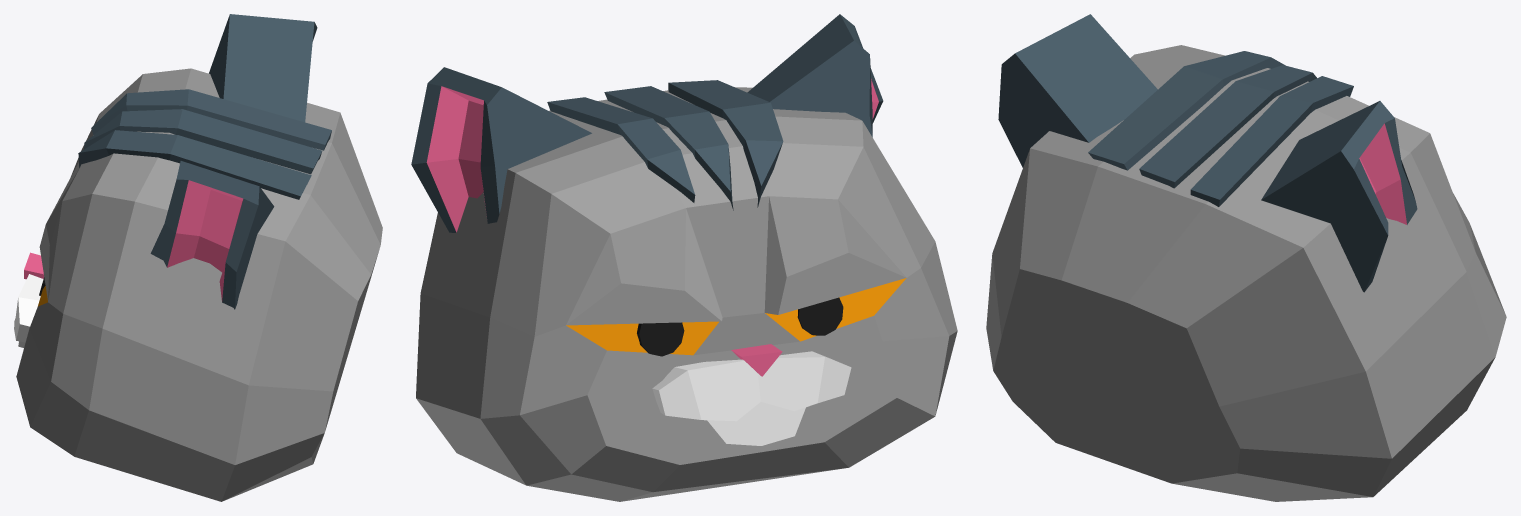
Rendered from cat.glb.
3 renders of one model, left to right at view 1: azimuth 30°, elevation 25°; view 2: azimuth 150°, elevation 25°; view 3: azimuth 270°, elevation 25°, orthographic. The views are drawn at different scales.
Parts seen in each view (by area): view 1: group1932486327, group598749005, group1717132288, group2142930274, group2073198580, group688622445, group1418028769; view 2: group1932486327, group1717132288, group1418028769, group598749005, group2142930274, group2073198580, group688622445, group445153108, group34835231, group1732848719, group1140040804; view 3: group1932486327, group1717132288, group598749005, group2142930274, group2073198580, group688622445.
Part boxes in pixels (box(x1,y1,x2,y2)): group1932486327: box(16, 68, 382, 501); group598749005: box(150, 161, 274, 309); group1717132288: box(209, 14, 317, 122); group2142930274: box(78, 130, 311, 199); group2073198580: box(84, 109, 322, 174); group688622445: box(91, 89, 331, 150); group1418028769: box(14, 249, 43, 342); group1932486327: box(416, 87, 957, 501); group1717132288: box(411, 67, 591, 232); group1418028769: box(652, 351, 851, 421); group598749005: box(747, 14, 883, 137); group2142930274: box(668, 80, 783, 207); group2073198580: box(604, 86, 733, 210); group688622445: box(547, 97, 695, 202); group445153108: box(707, 402, 805, 445); group34835231: box(637, 322, 684, 356); group1732848719: box(797, 297, 843, 335); group1140040804: box(731, 344, 782, 376); group1932486327: box(986, 45, 1506, 501); group1717132288: box(1261, 101, 1417, 292); group598749005: box(998, 14, 1157, 167); group2142930274: box(1088, 51, 1285, 170); group2073198580: box(1139, 65, 1316, 188); group688622445: box(1190, 76, 1353, 206).
Size of the model in its own units: 0.2885 by 0.2715 by 0.315.
